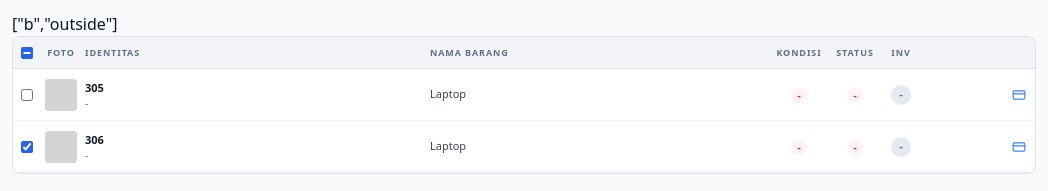
Test: header mixed untuk overlap, lalu pilih/batalkan hanya halaman aktif
Click the checkbox named "Pilih semua aset di halaman ini".
click(27, 52)  # box [21,46,33,58]
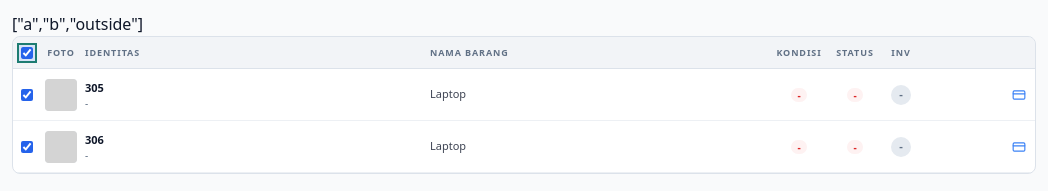
Expected: the checkbox named "Pilih semua aset di halaman ini" is checked
Expected: the text with test id "selected-ids" reads "[\"a\",\"b\",\"outside\"]", [12,13,143,35]
Click the checkbox named "Pilih semua aset di halaman ini".
click(27, 52)  # box [21,46,33,58]
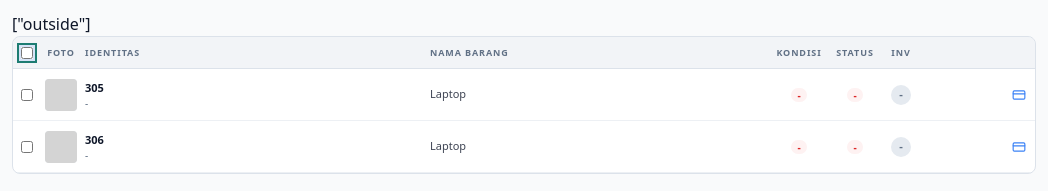
Expected: the checkbox named "Pilih semua aset di halaman ini" is not checked, [21,46,33,58]
Expected: the text with test id "selected-ids" reads "[\"outside\"]", [12,13,90,35]
